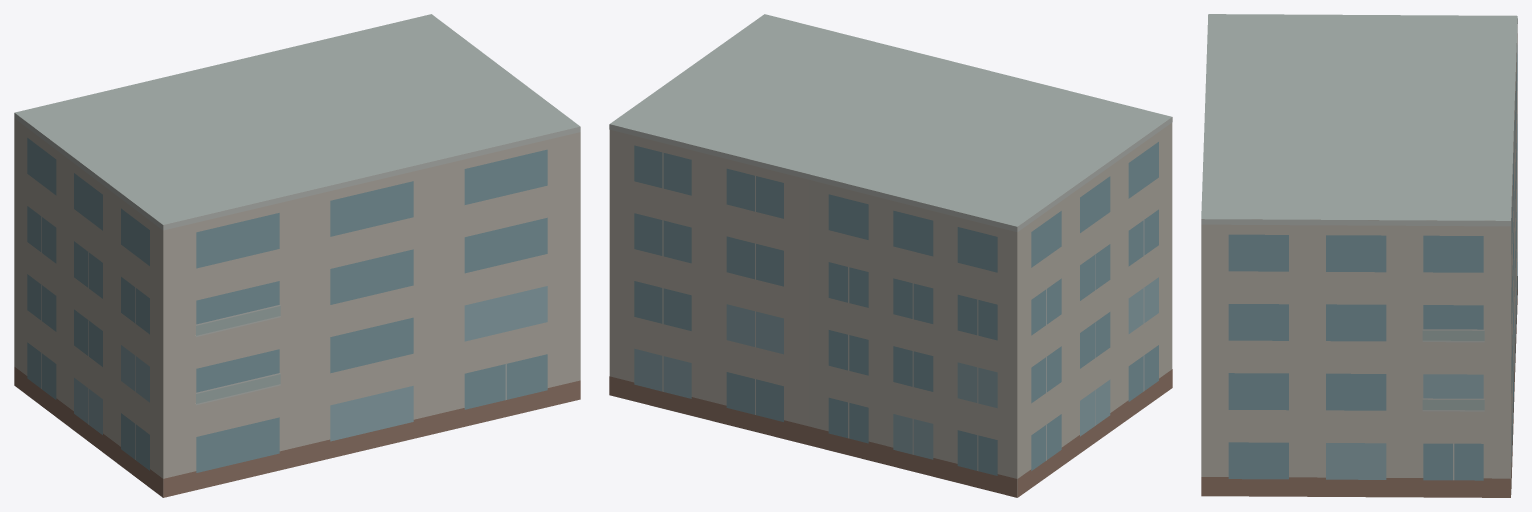
Rendered from residential-e5d2c217-81c8-4918-bcd0-85a16c98a83e.glb.
3 views of the same model, side by side, from view 1: azimuth 30°, elevation 25°; view 2: azimuth 150°, elevation 25°; view 3: azimuth 270°, elevation 25° (orthographic). The views are drawn at different scales.
Visible parts, largest first — view 1: residential-e5d2c217-81c8-4918-bcd0-85a16c98a83e.tmp; view 2: residential-e5d2c217-81c8-4918-bcd0-85a16c98a83e.tmp; view 3: residential-e5d2c217-81c8-4918-bcd0-85a16c98a83e.tmp.
Part boxes in pixels (x1,y1,x2,y2): residential-e5d2c217-81c8-4918-bcd0-85a16c98a83e.tmp: (14, 14, 580, 497); residential-e5d2c217-81c8-4918-bcd0-85a16c98a83e.tmp: (609, 14, 1172, 497); residential-e5d2c217-81c8-4918-bcd0-85a16c98a83e.tmp: (1201, 14, 1517, 497).
Size of the model in its own units: 19.57 by 12.2 by 12.65.
